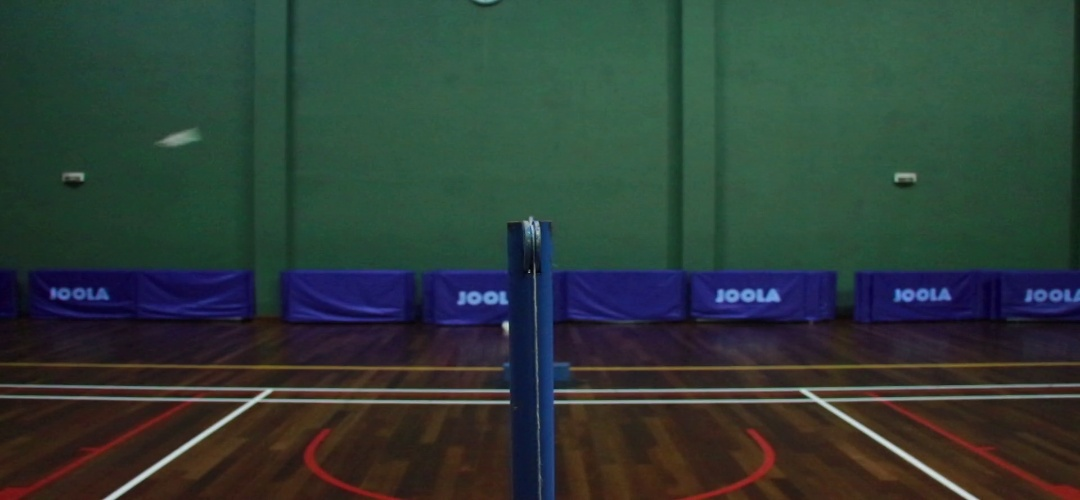c1: (240, 394, 270, 410)
c2: (799, 394, 844, 409)
net_level: (506, 222, 553, 288)
shuttle: (153, 129, 206, 149)
